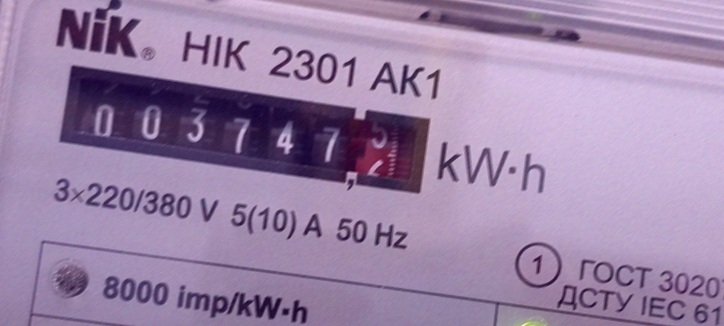0: (138, 100, 163, 141), (90, 101, 117, 138)
3: (184, 105, 207, 144)
4: (272, 116, 298, 158)
5: (367, 120, 390, 150)
6: (364, 155, 385, 178)
7: (315, 122, 343, 165), (227, 114, 251, 155)
screen: (47, 53, 447, 211)
